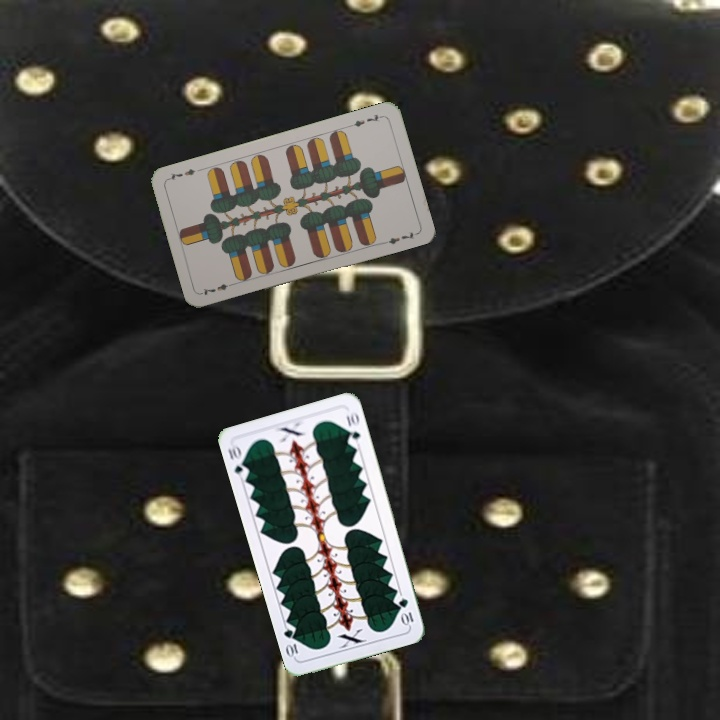E7: (346, 110, 385, 130), (198, 279, 238, 298)
G10: (224, 440, 251, 481), (395, 594, 416, 628)
